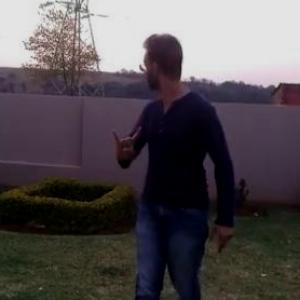takeoff-hand: (108, 119, 147, 166)
